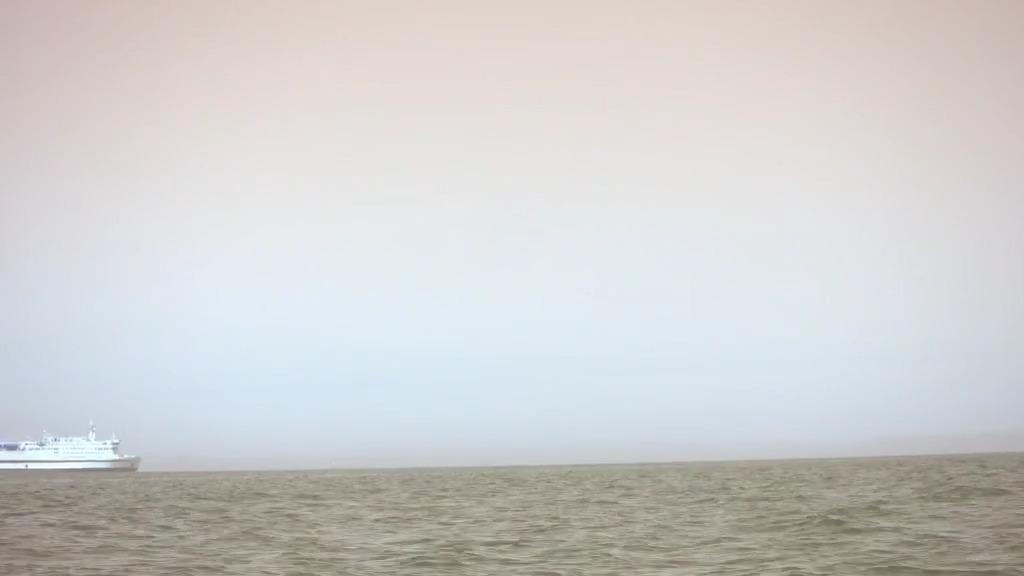PassengerShip: (0, 417, 148, 475)
